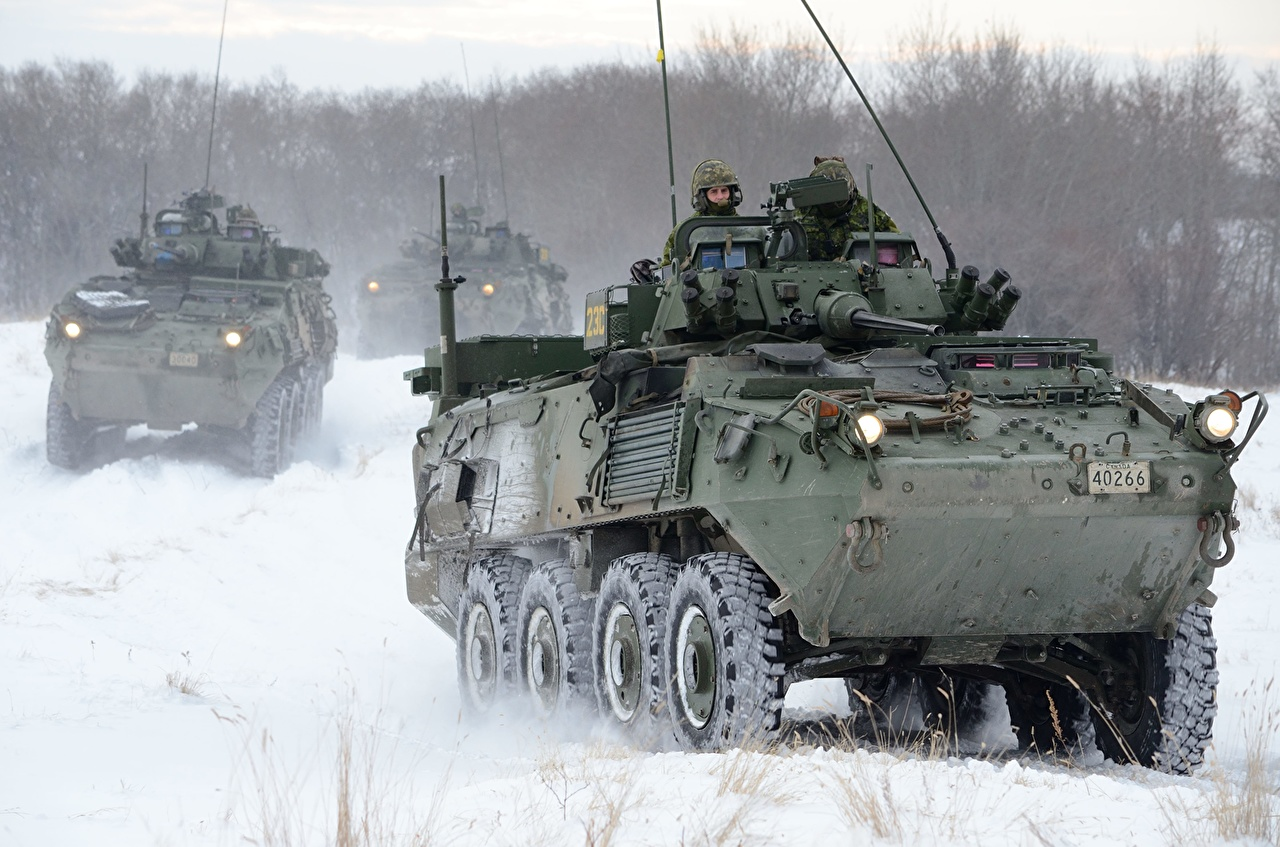btr: (372, 156, 1264, 763), (35, 182, 357, 472), (356, 213, 587, 353)
pilot: (771, 158, 900, 257), (663, 156, 775, 246)
